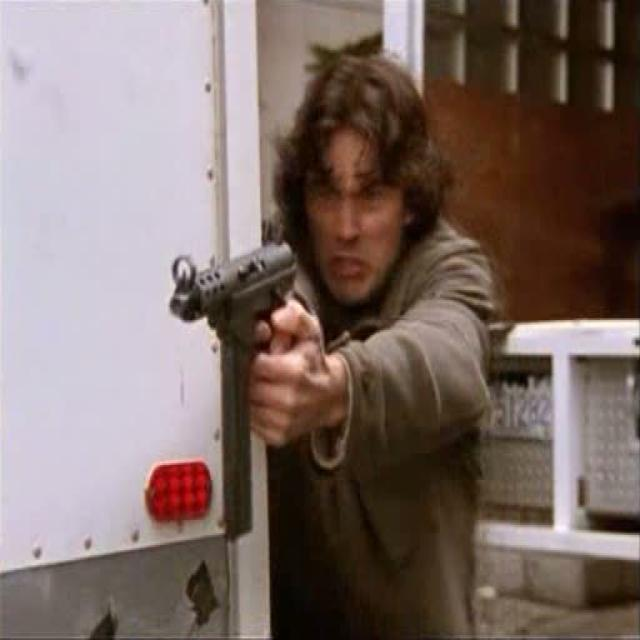rifle: (163, 216, 308, 344)
